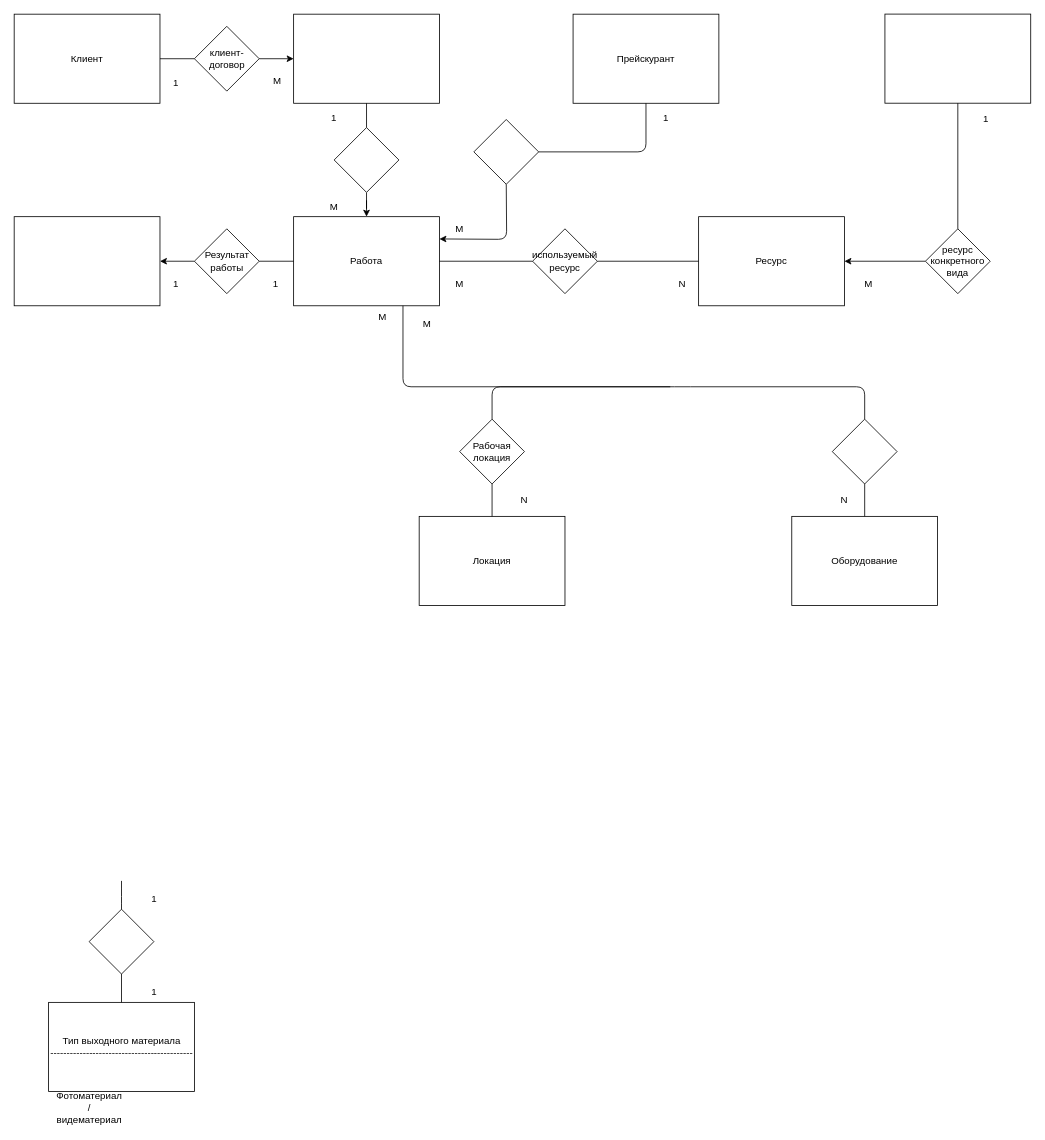
This 1045x1140 diagram has some shape labels left out. The centre of each missing label's shape, as x and y in pixels:
"вид работы - работа" goes at (x=506, y=151).
"Вид требующегося ресурса" goes at (x=957, y=58).
"Договор" goes at (x=366, y=58).
"договор-работа" goes at (x=366, y=159).
"Результат" goes at (x=86, y=261).
"требующееся оборудование" goes at (x=864, y=451).
